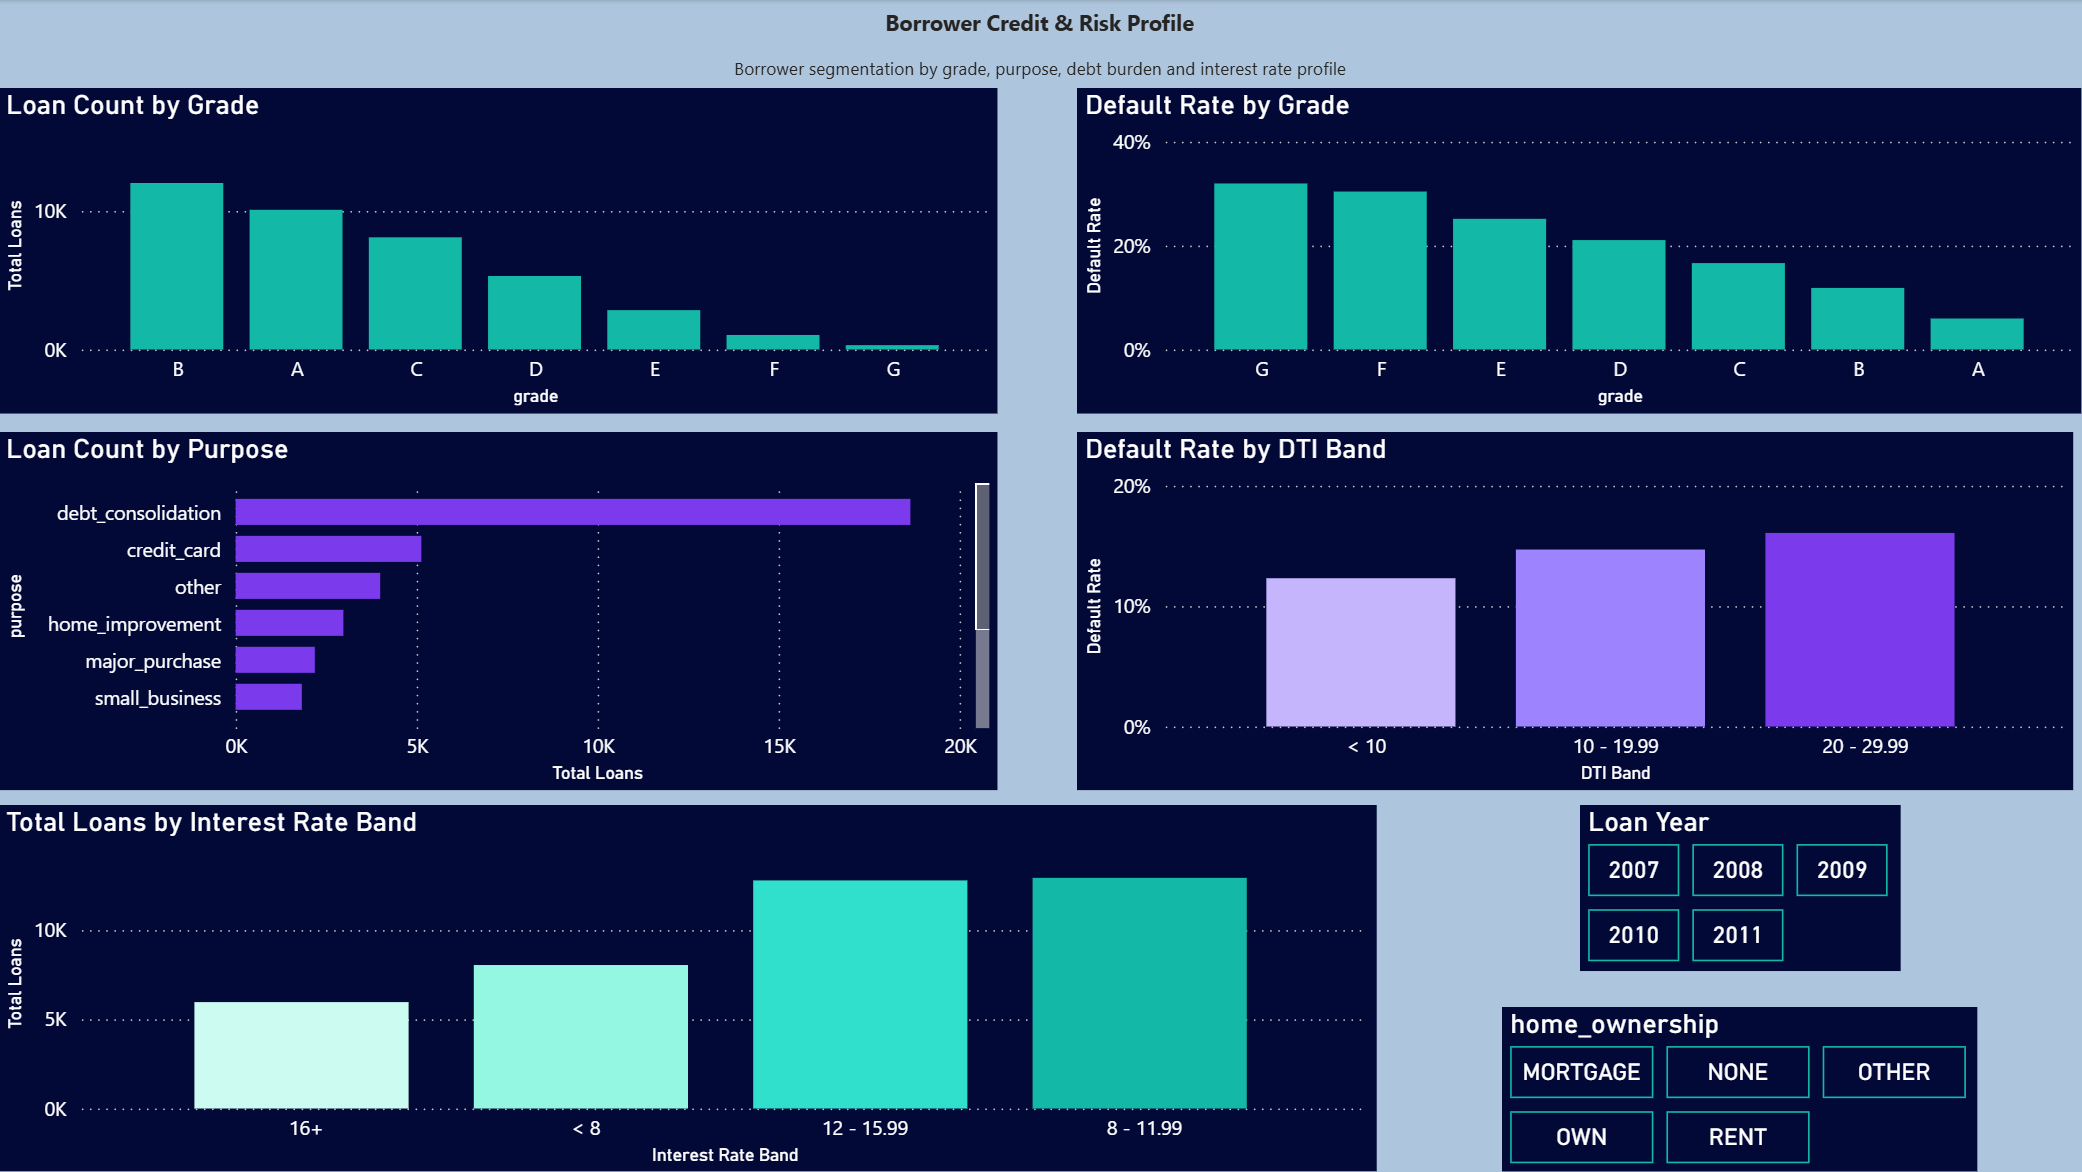

The dashboard page shown, as its layout file describes it:
{"tool":"powerbi","page":{"name":"Borrower Risk Profile","canvas":[1280,720],"ordinal":3},"visuals":[{"type":"textbox","box":[533.2,0,213.4,27.2],"z":0},{"type":"textbox","box":[441,27.2,398.4,27.2],"z":1000},{"type":"clusteredColumnChart","title":"Loan Count by Grade","fields":{"Category":["Loans.grade"],"Y":["Loans.Total Loans"]},"box":[0,54.1,613.7,199.7],"z":2000},{"type":"clusteredColumnChart","title":"Default Rate by Grade","fields":{"Category":["Loans.grade"],"Y":["Loans.Default Rate"]},"box":[662.9,54.1,617.4,199.7],"z":3000},{"type":"clusteredBarChart","title":"Loan Count by Purpose","fields":{"Category":["Loans.purpose"],"Y":["Loans.Total Loans"]},"box":[0,265.4,613.7,219.9],"z":4000},{"type":"clusteredColumnChart","fields":{"Category":["Loans.DTI Band"],"Y":["Loans.Default Rate"]},"box":[662.9,265.4,611.9,219.9],"z":5000},{"type":"clusteredColumnChart","fields":{"Category":["Loans.Interest Rate Band"],"Y":["Loans.Total Loans"]},"box":[0,494.5,846.6,225.5],"z":6000},{"type":"advancedSlicerVisual","fields":{"Values":["Loans.Loan Year"]},"box":[971.9,494.5,196.6,102],"z":7000},{"type":"advancedSlicerVisual","fields":{"Values":["Loans.home_ownership"]},"box":[924,618.6,292.4,101.4],"z":8000}]}

Visuals, with their boxes in screenshot pixels (x1, y1, x2, y2), scaled from the page's 1280x720 canvas onto the 2082x1172 screenshot:
textbox: 867:0:1214:44
textbox: 717:44:1365:89
"Loan Count by Grade" clusteredColumnChart: 0:88:998:413
"Default Rate by Grade" clusteredColumnChart: 1078:88:2081:413
"Loan Count by Purpose" clusteredBarChart: 0:432:998:790
clusteredColumnChart - Loans.DTI Band x Loans.Default Rate: 1078:432:2074:790
clusteredColumnChart - Loans.Interest Rate Band x Loans.Total Loans: 0:805:1377:1171
advancedSlicerVisual - Loans.Loan Year: 1581:805:1901:971
advancedSlicerVisual - Loans.home_ownership: 1503:1007:1979:1171
